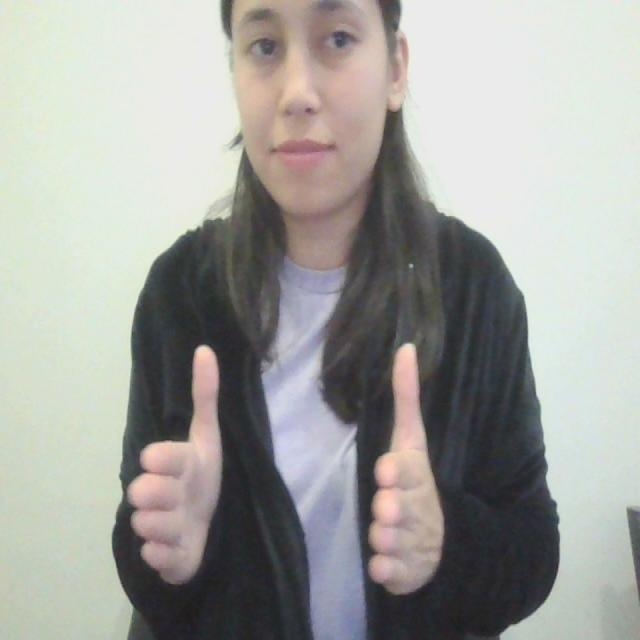Nasil: (122, 330, 460, 612)
